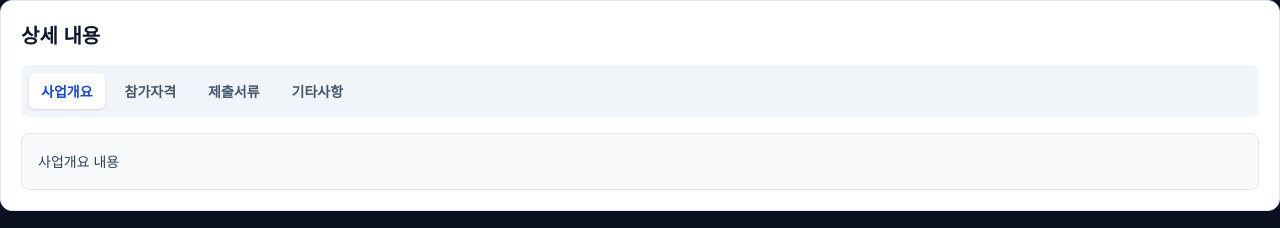
it: NoticeTabsContentCard › 탭 클릭 시 해당 탭 내용을 렌더링한다
Step 1. Click the tab "참가자격" → (150, 91), box left=112, top=73, right=188, bottom=109
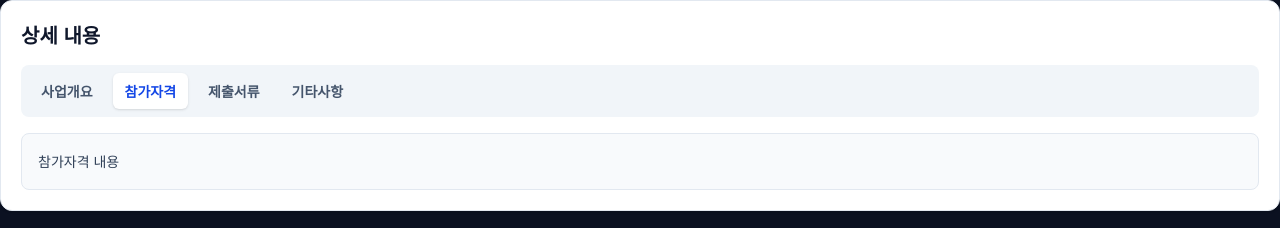
Check: the panel reads "참가자격 내용", box left=38, top=151, right=119, bottom=171
